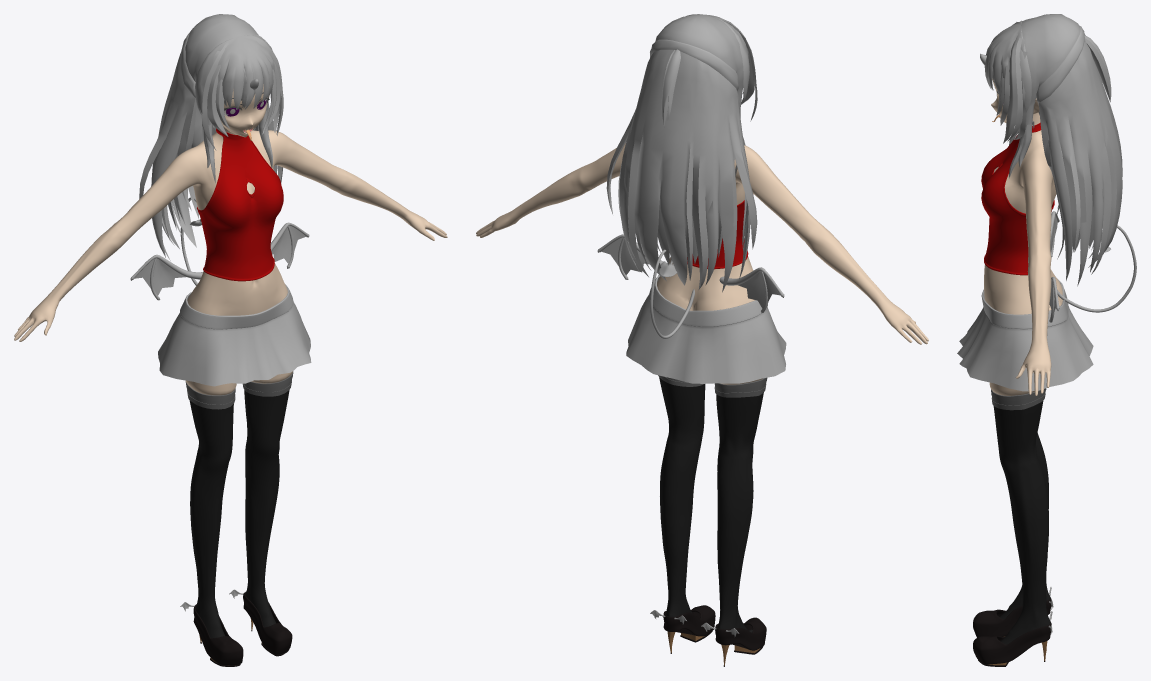
The model's file is MiziColorModel.fbx.
3 views of the same model, side by side, from view 1: azimuth 30°, elevation 25°; view 2: azimuth 150°, elevation 25°; view 3: azimuth 270°, elevation 25° (orthographic). The views are drawn at different scales.
Parts seen in each view (by area): view 1: BOdy, Hair1, Skirt, Shirt, Heals, Wings; view 2: Hair1, BOdy, Skirt, Heals, Wings, Shirt; view 3: Hair1, BOdy, Skirt, Shirt, Heals, Tail, Wings.
Boxes of the visible parts, x1,y1,x2,y2 form: BOdy: (14, 84, 447, 638); Hair1: (139, 14, 283, 260); Skirt: (158, 284, 311, 386); Shirt: (197, 128, 283, 281); Heals: (193, 592, 292, 666); Wings: (130, 222, 309, 300); Hair1: (606, 14, 757, 292); BOdy: (476, 143, 928, 632); Skirt: (626, 275, 786, 383); Heals: (663, 605, 766, 666); Wings: (597, 234, 784, 312); Shirt: (687, 200, 748, 269); Hair1: (984, 14, 1122, 286); BOdy: (984, 79, 1062, 644); Skirt: (957, 278, 1093, 391); Shirt: (981, 122, 1054, 275); Heals: (973, 598, 1051, 666); Tail: (1057, 225, 1136, 312); Wings: (1049, 211, 1059, 322).
Size of the model in its own units: 11.5 by 15.68 by 4.04.
